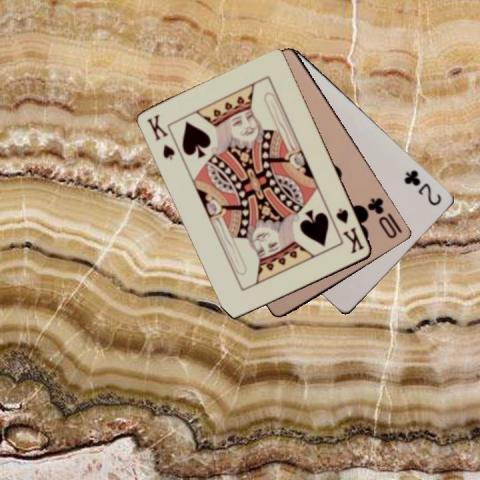10c: (365, 195, 404, 240)
2c: (402, 167, 444, 207)
Ks: (333, 206, 366, 256), (144, 111, 177, 161)
